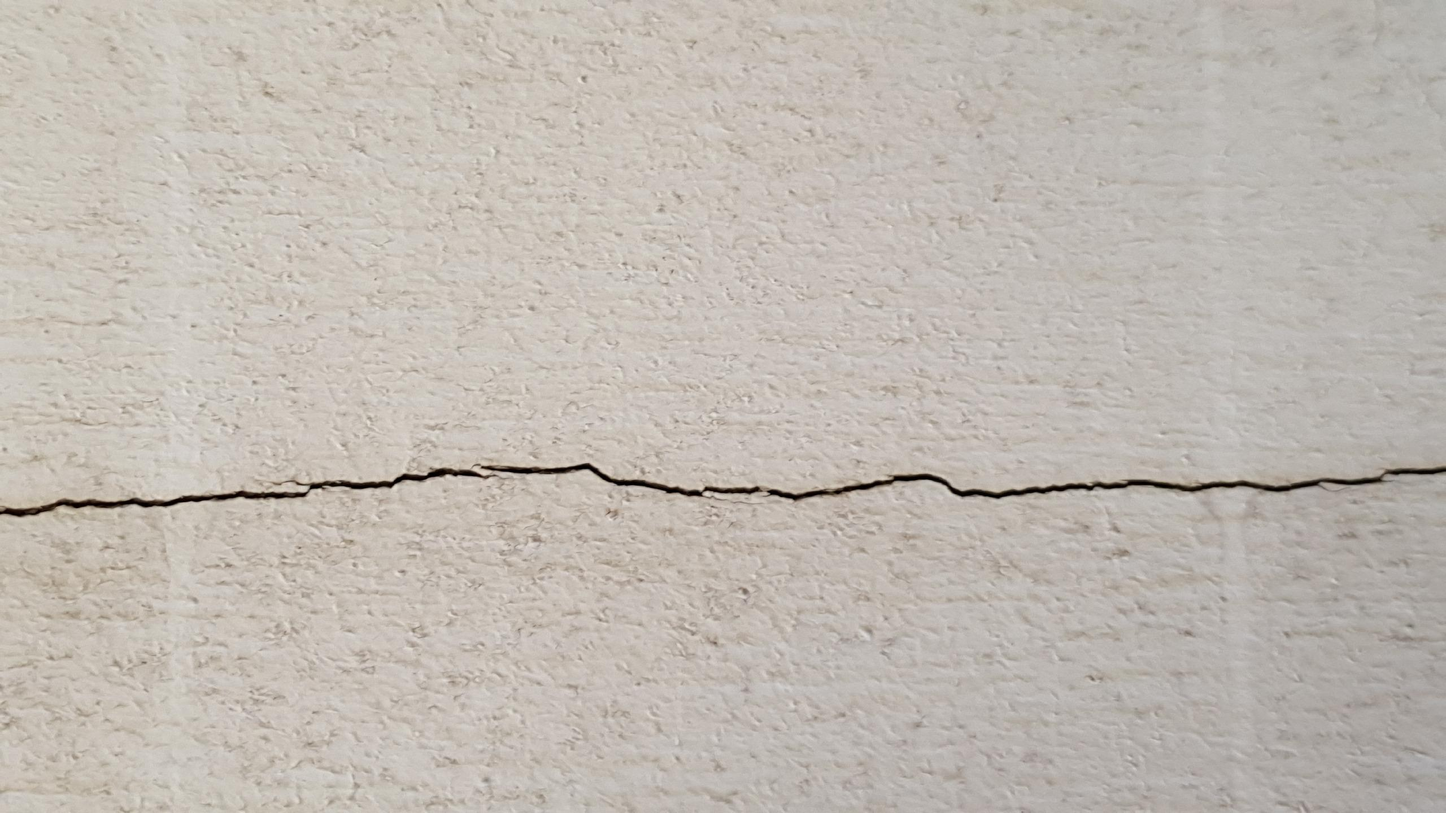crack: (2, 463, 1445, 517)
